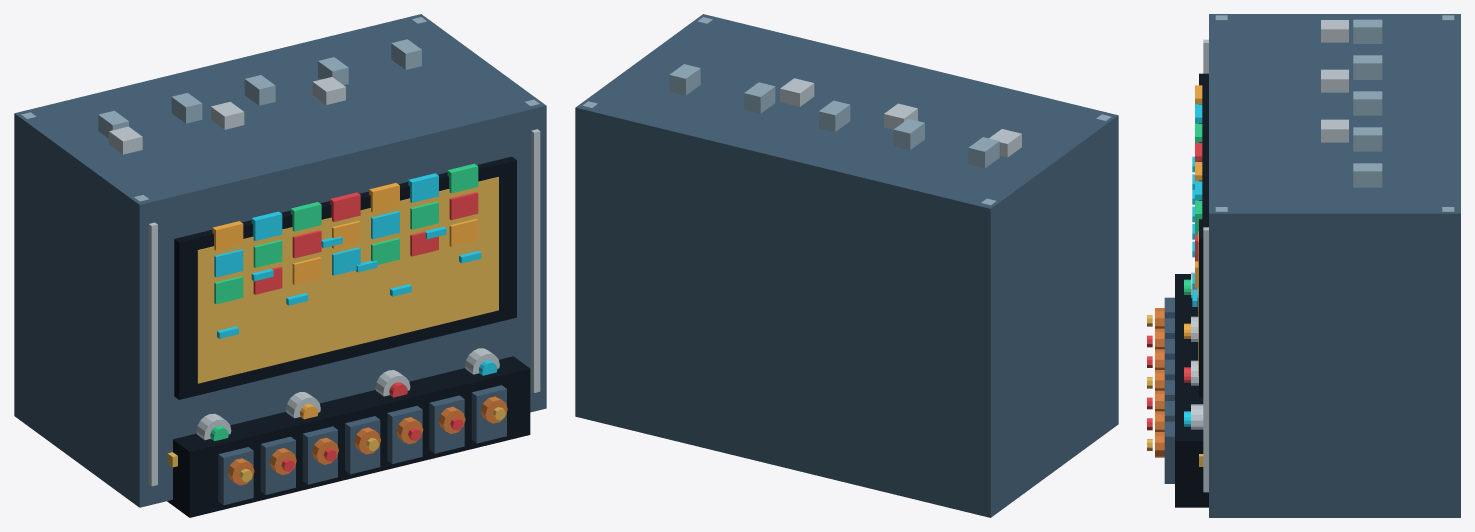
The model's file is 47_L73_DishingErosionAnalyzer.fbx.
3 views of the same model, side by side, from view 1: azimuth 30°, elevation 25°; view 2: azimuth 150°, elevation 25°; view 3: azimuth 270°, elevation 25° (orthographic). The views are drawn at different scales.
Visible parts, largest first — view 1: DishingErosionAnalyzer; view 2: DishingErosionAnalyzer; view 3: DishingErosionAnalyzer.
Part boxes in pixels (x1,y1,x2,y2): DishingErosionAnalyzer: (14, 14, 546, 517); DishingErosionAnalyzer: (575, 14, 1118, 517); DishingErosionAnalyzer: (1147, 14, 1460, 517).
Size of the model in its own units: 135 by 103 by 89.72.
